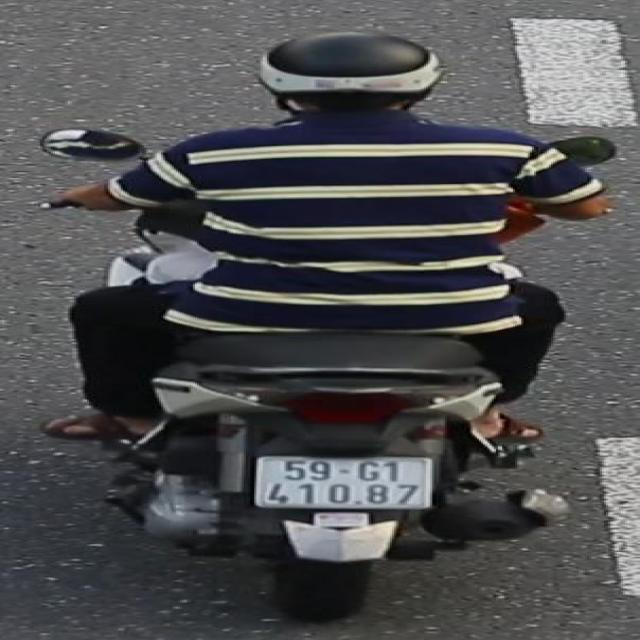LP: (248, 450, 441, 514)
helmet: (256, 28, 448, 118)
